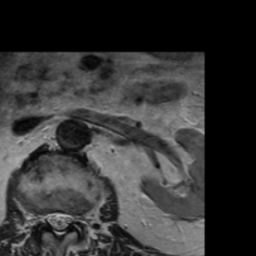CCS_normal: (55, 203, 63, 243)
LFS_stenosis: (71, 203, 81, 233)
LLS_stenosis: (63, 203, 71, 236)
RFS_normal: (35, 202, 45, 231)
RLS_normal: (45, 203, 55, 233)
